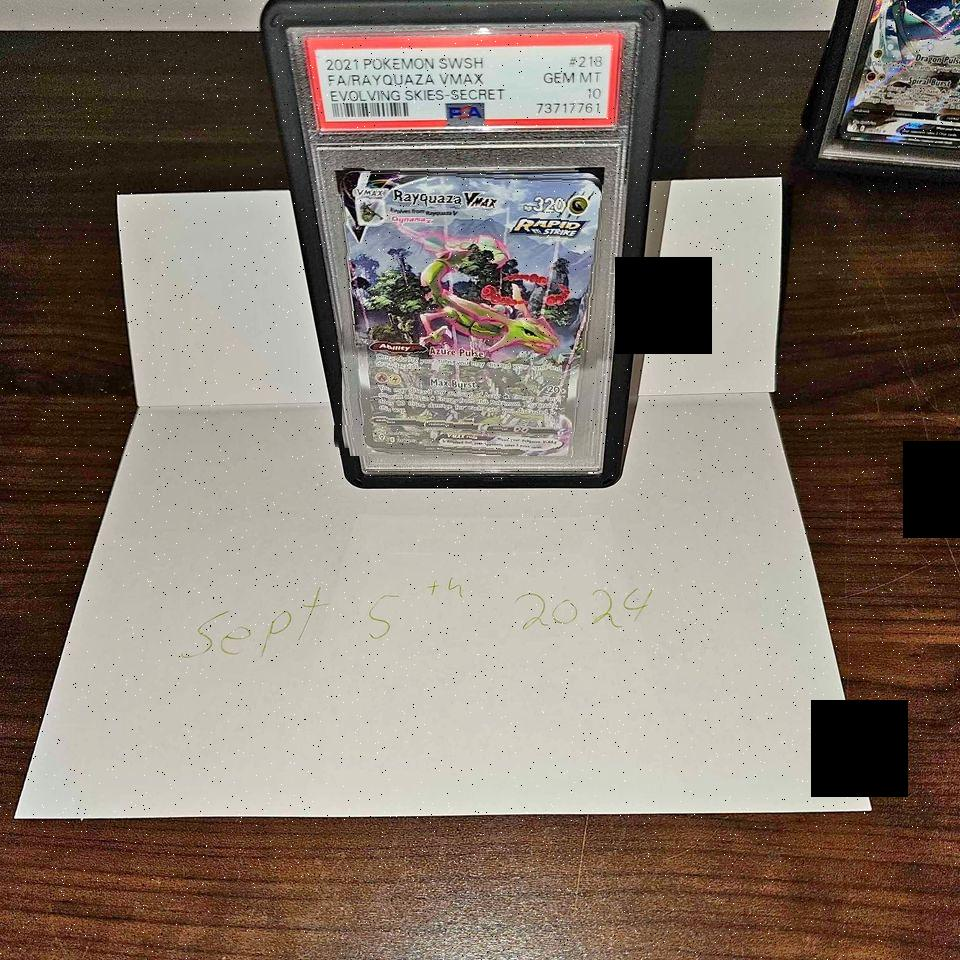card: (342, 172, 602, 456)
